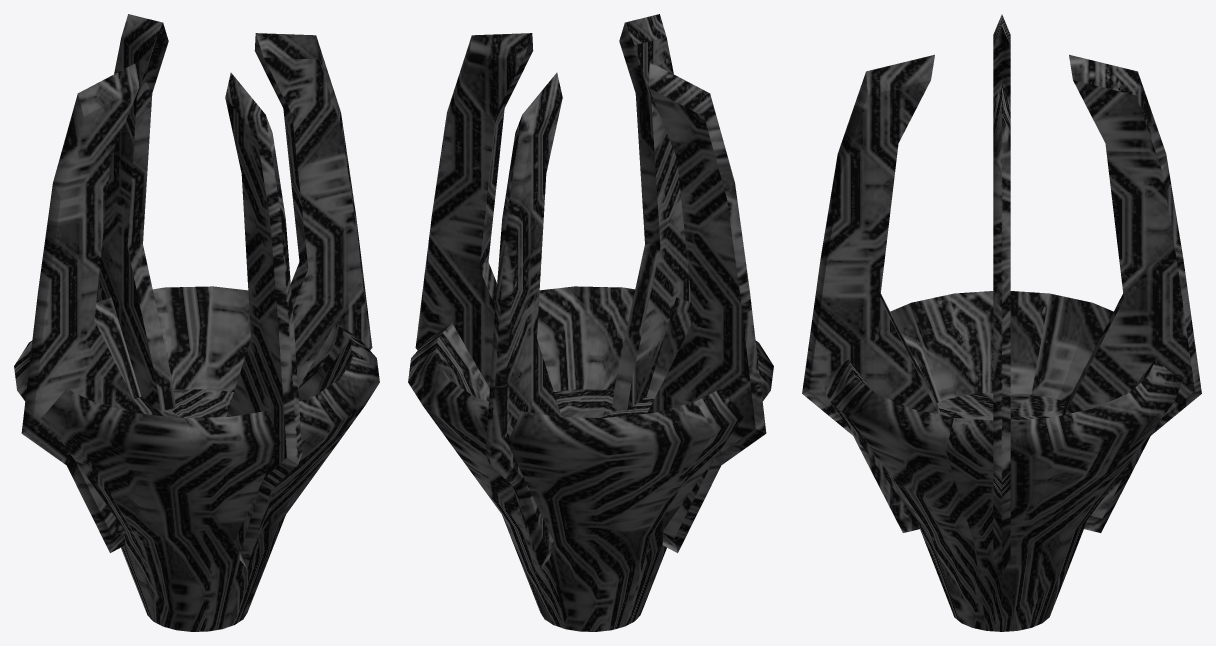
Rendered from top_off.glb.
The picture shows the model from 3 angles, left to right: view 1: azimuth 30°, elevation 25°; view 2: azimuth 150°, elevation 25°; view 3: azimuth 270°, elevation 25°; orthographic projection.
Parts seen in each view (by area): view 1: BeaconHookOff.001; view 2: BeaconHookOff.001; view 3: BeaconHookOff.001.
Part boxes in pixels (<box>): BeaconHookOff.001: <box>14,14,379,631</box>; BeaconHookOff.001: <box>408,14,773,631</box>; BeaconHookOff.001: <box>802,14,1201,631</box>.
Size of the model in its own units: 0.2533 by 0.3887 by 0.2533.
Materials: 1 (1 with a texture image).
